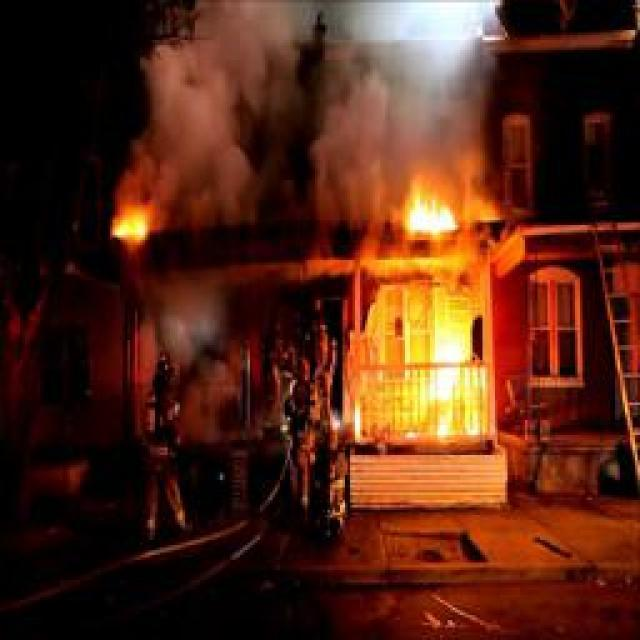Fire: (343, 187, 504, 447)
Smoke: (125, 0, 506, 231)
